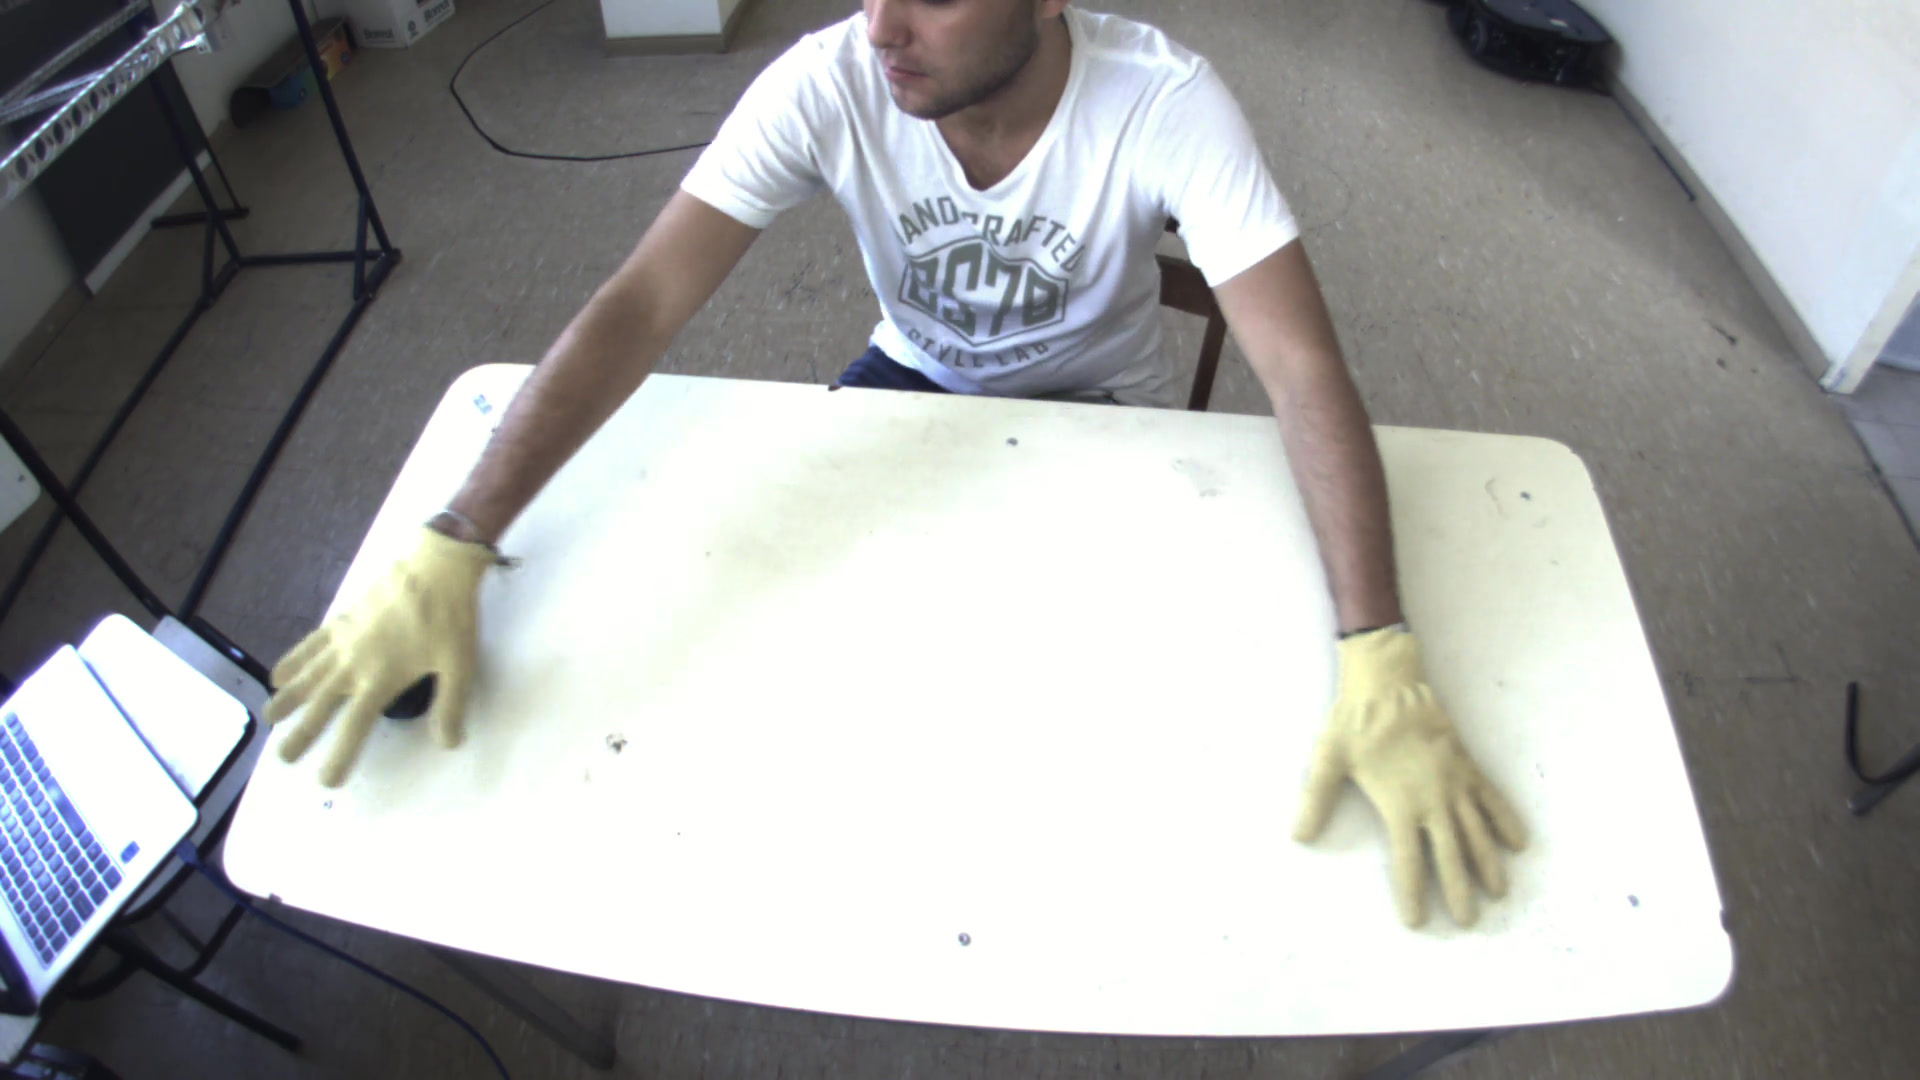hand: (1287, 615, 1552, 940), (245, 522, 514, 800)
